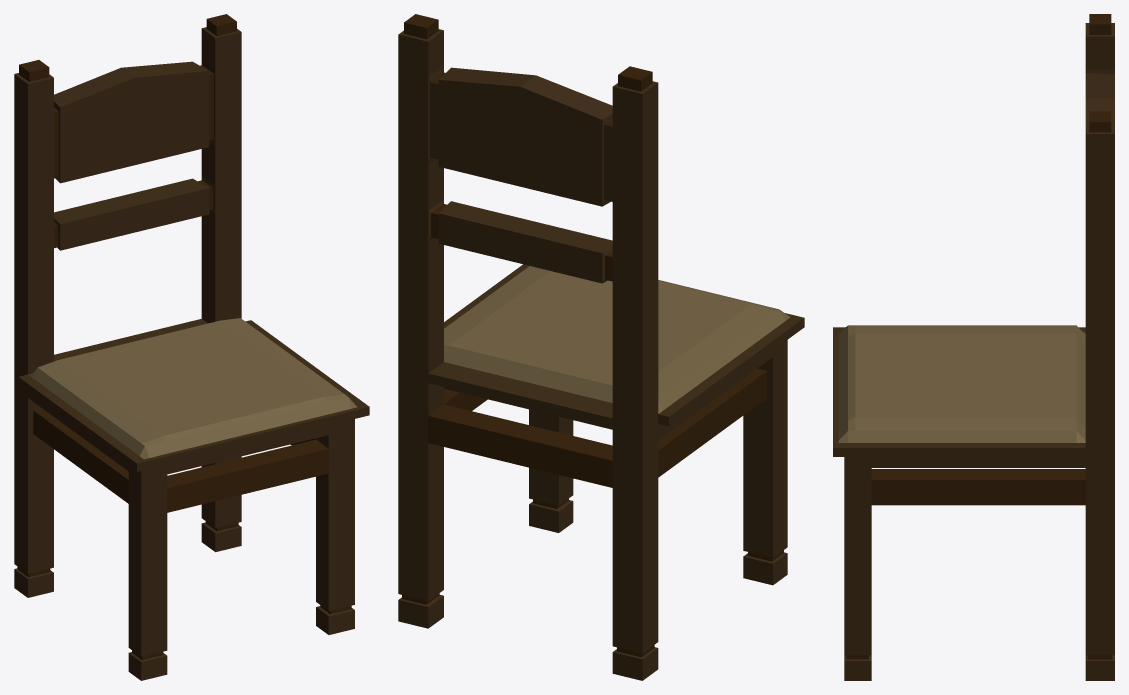
Rendered from cadeirafbx.fbx.
3 views of the same model, side by side, from view 1: azimuth 30°, elevation 25°; view 2: azimuth 150°, elevation 25°; view 3: azimuth 270°, elevation 25° (orthographic). The views are drawn at different scales.
Visible parts, largest first — view 1: cadeira 3 rosa; view 2: cadeira 3 rosa; view 3: cadeira 3 rosa.
Part boxes in pixels (x1,y1,x2,y2): cadeira 3 rosa: (14,14,369,680); cadeira 3 rosa: (398,14,804,680); cadeira 3 rosa: (833,14,1114,680).
Bounding box in the file's own units: 443 × 953 × 436.
